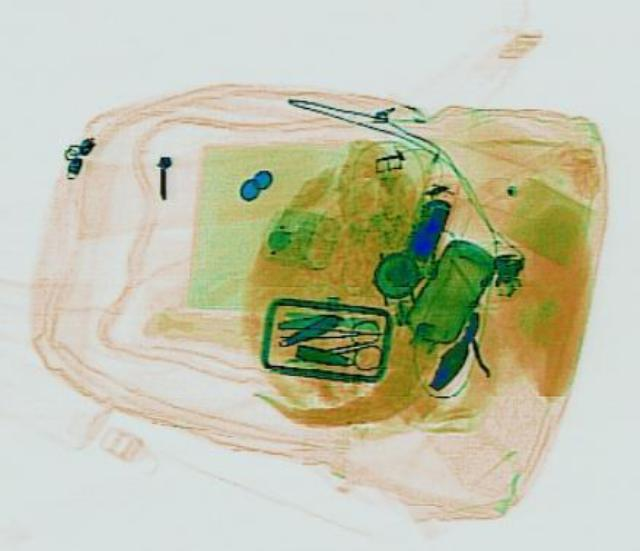Scissors: (298, 314, 388, 377)
